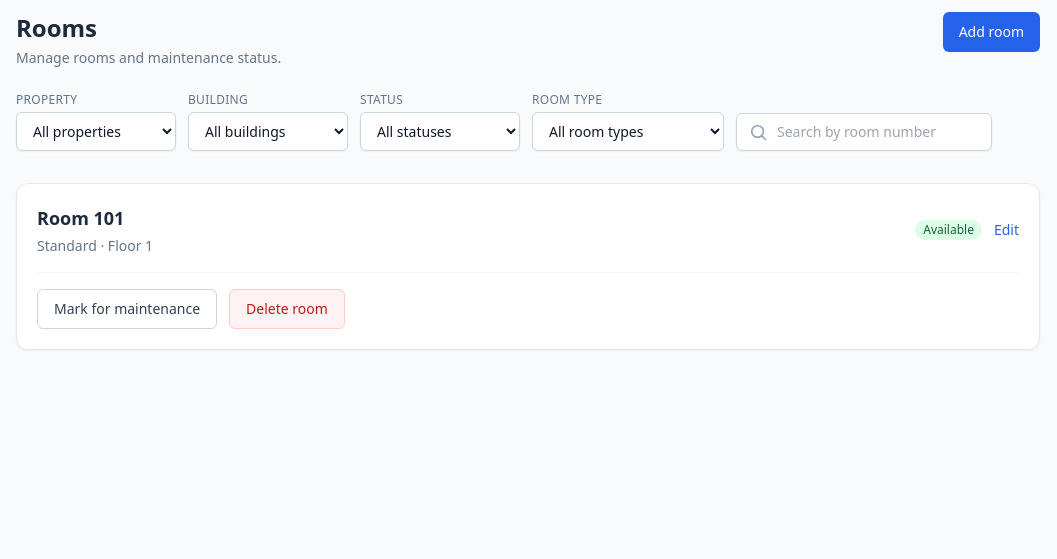
Scenario: Staff rooms list page › marks a room for maintenance and shows a success banner
Click the button "Mark for maintenance": (127, 309) [37,289,217,329]
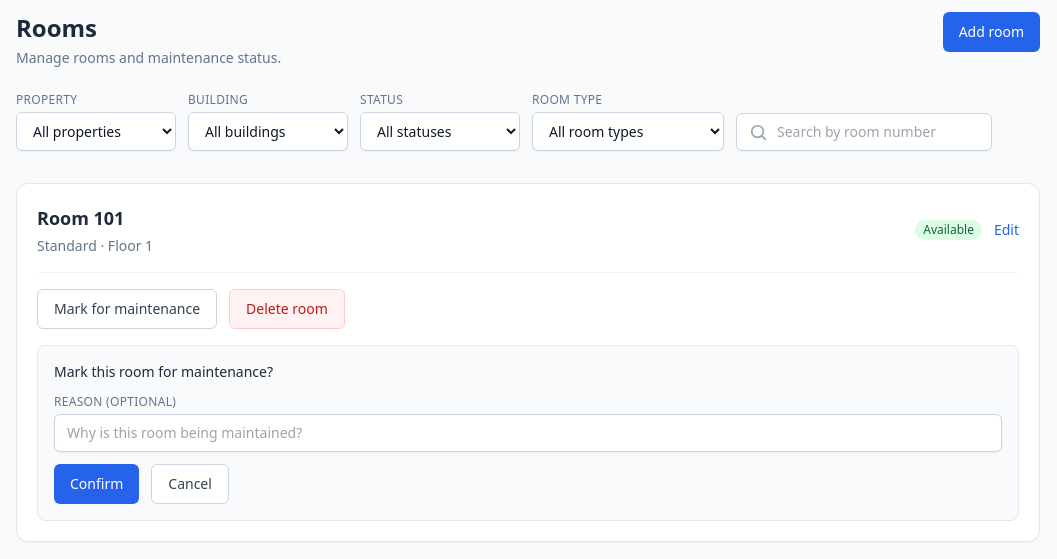
Expected: the text "Mark this room for maintenance?" is shown, [54,362,273,381]
Click the button "Confirm": (97, 484) [54,464,139,504]
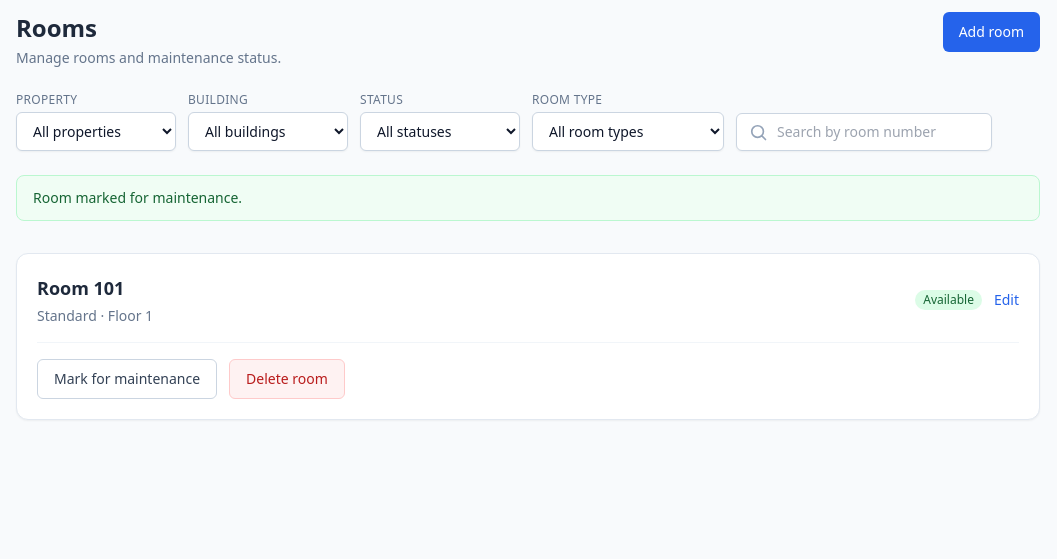
Expected: the text "Room marked for maintenance." is shown, [16,175,1040,221]
